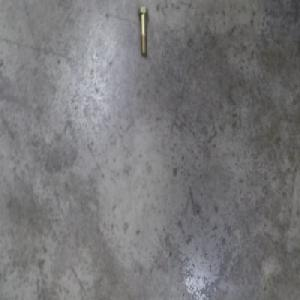Bolt: (138, 13, 152, 61)
